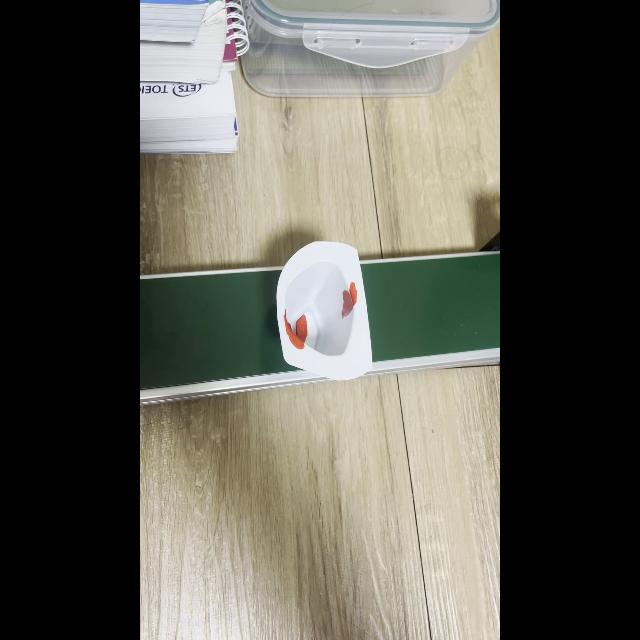dirty: (276, 242, 372, 380)
